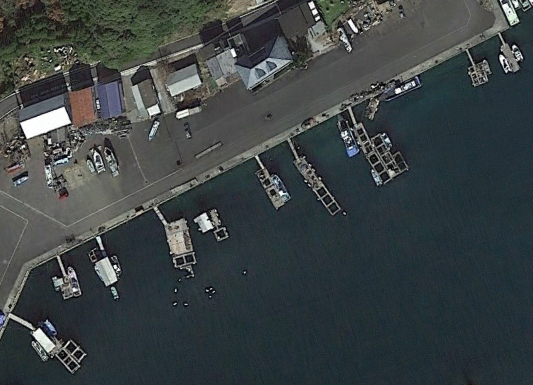house: (230, 37, 295, 86), (14, 97, 72, 134), (62, 83, 101, 130), (93, 78, 130, 124), (128, 76, 165, 122), (162, 64, 207, 96)
platform: (160, 217, 193, 256)
ship: (371, 76, 425, 97), (60, 259, 83, 301), (338, 117, 356, 158), (29, 337, 52, 364), (272, 172, 290, 201), (496, 54, 512, 76), (511, 42, 524, 63), (111, 253, 120, 280), (370, 169, 381, 187), (381, 132, 392, 150)
